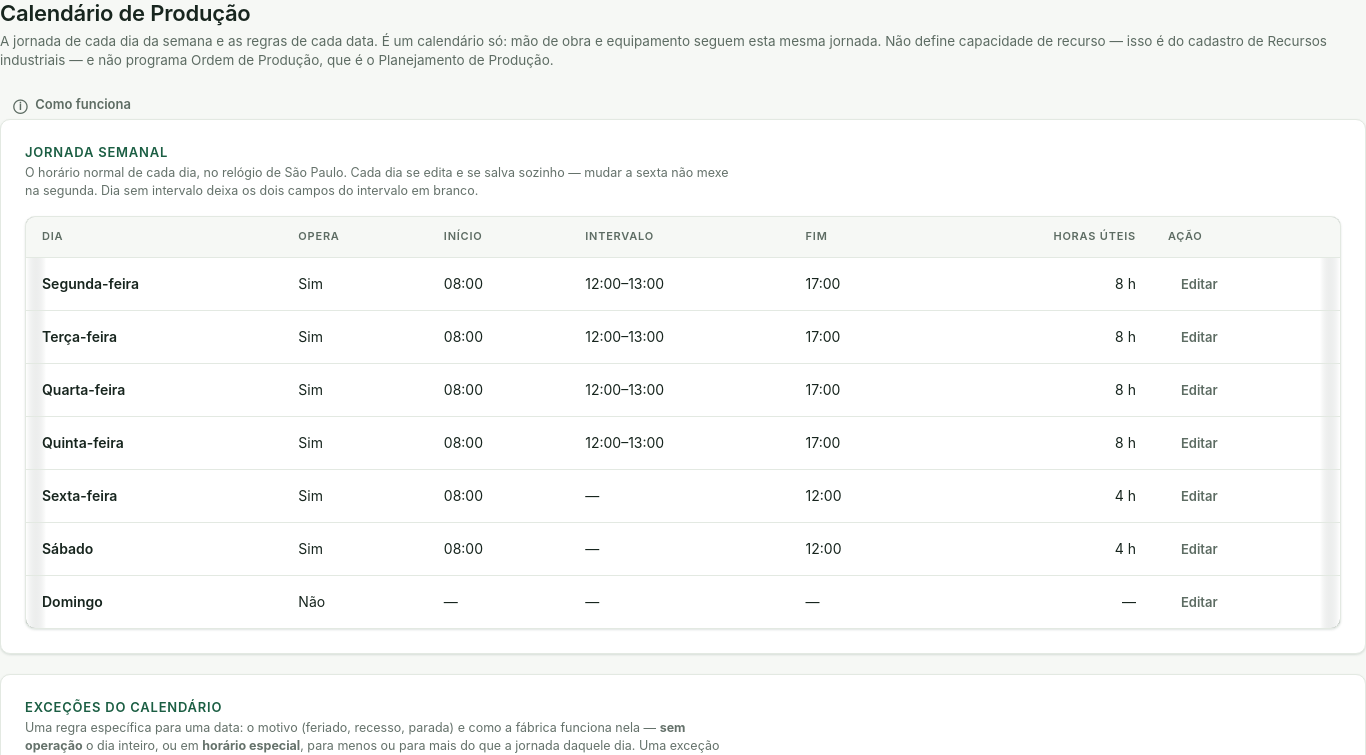
Test case: jornada semanal — sete linhas › horas úteis são derivadas enquanto se digita, antes de salvar
Click the button "Editar" in the row of "Segunda-feira": click(1199, 284) [1168, 270, 1231, 298]
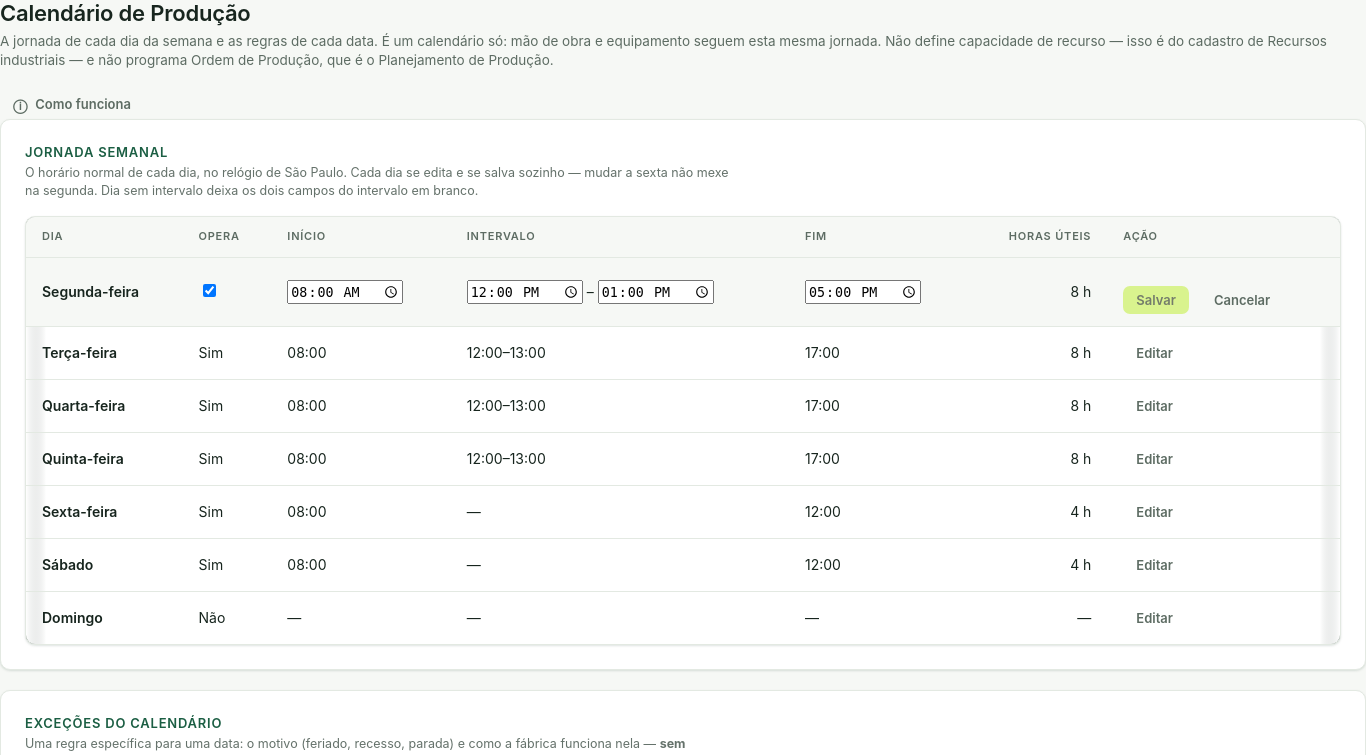
Check: the text named "Horas úteis — Segunda-feira" reads "8 h", box [1070, 283, 1091, 300]
Replace the text in the time field named "Fim do intervalo — Segunda-feira" with "12:30": (656, 292) [598, 280, 714, 304]
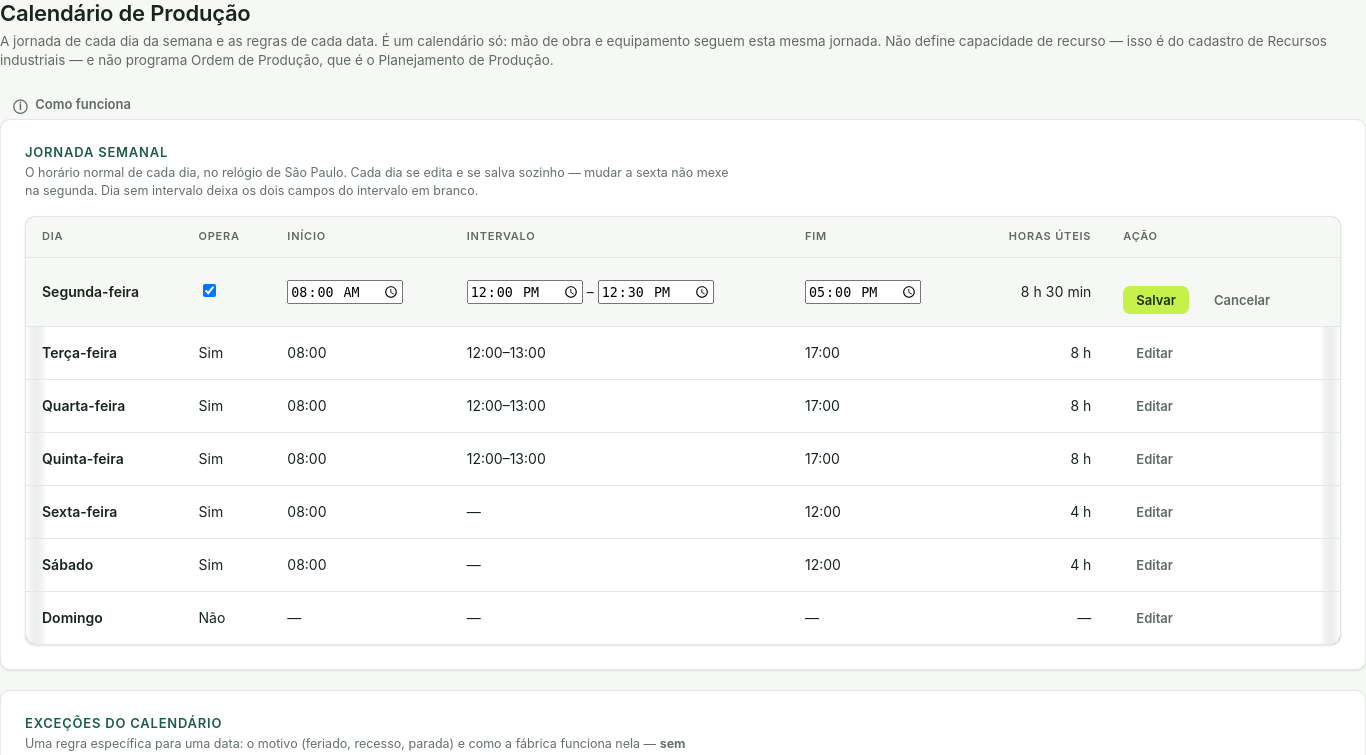
Check: the text named "Horas úteis — Segunda-feira" reads "8 h 30 min", box [1021, 283, 1091, 300]
